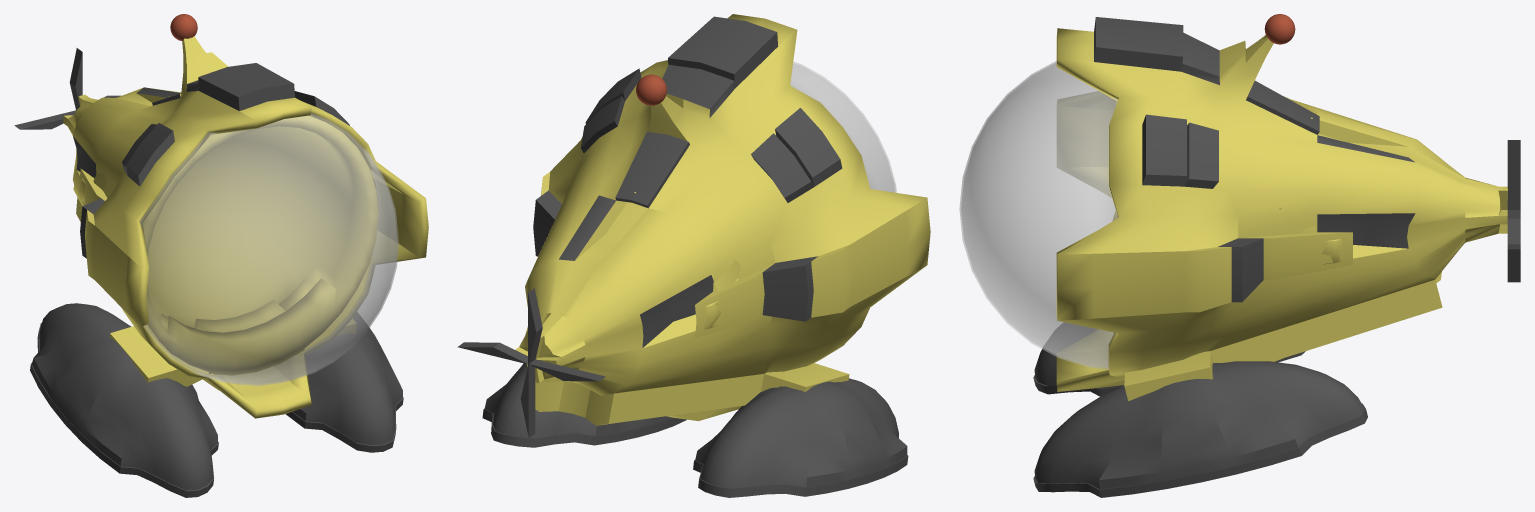
Rendered from Submarine.fbx.
3 renders of one model, left to right at view 1: azimuth 30°, elevation 25°; view 2: azimuth 150°, elevation 25°; view 3: azimuth 270°, elevation 25°, orthographic. The views are drawn at different scales.
Visible parts, largest first — view 1: Submarine.001; view 2: Submarine.001; view 3: Submarine.001.
Boxes of the visible parts, <box> form: Submarine.001: <box>14,14,428,497</box>; Submarine.001: <box>457,14,930,497</box>; Submarine.001: <box>959,14,1520,497</box>.
Size of the model in its own units: 5614 by 6696 by 8063.
